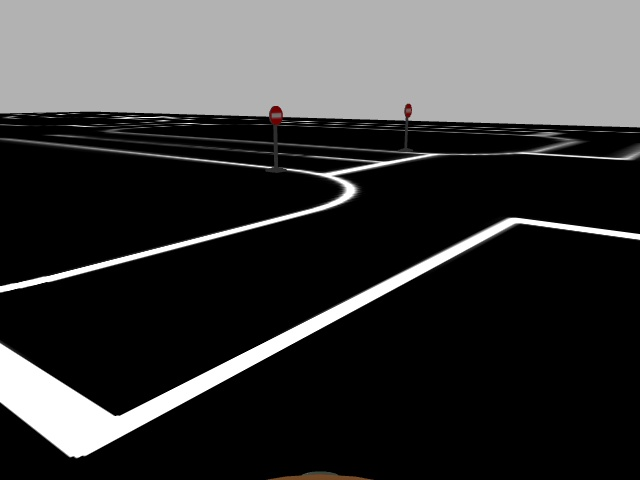prohibited: (269, 103, 284, 127), (404, 102, 413, 119)
